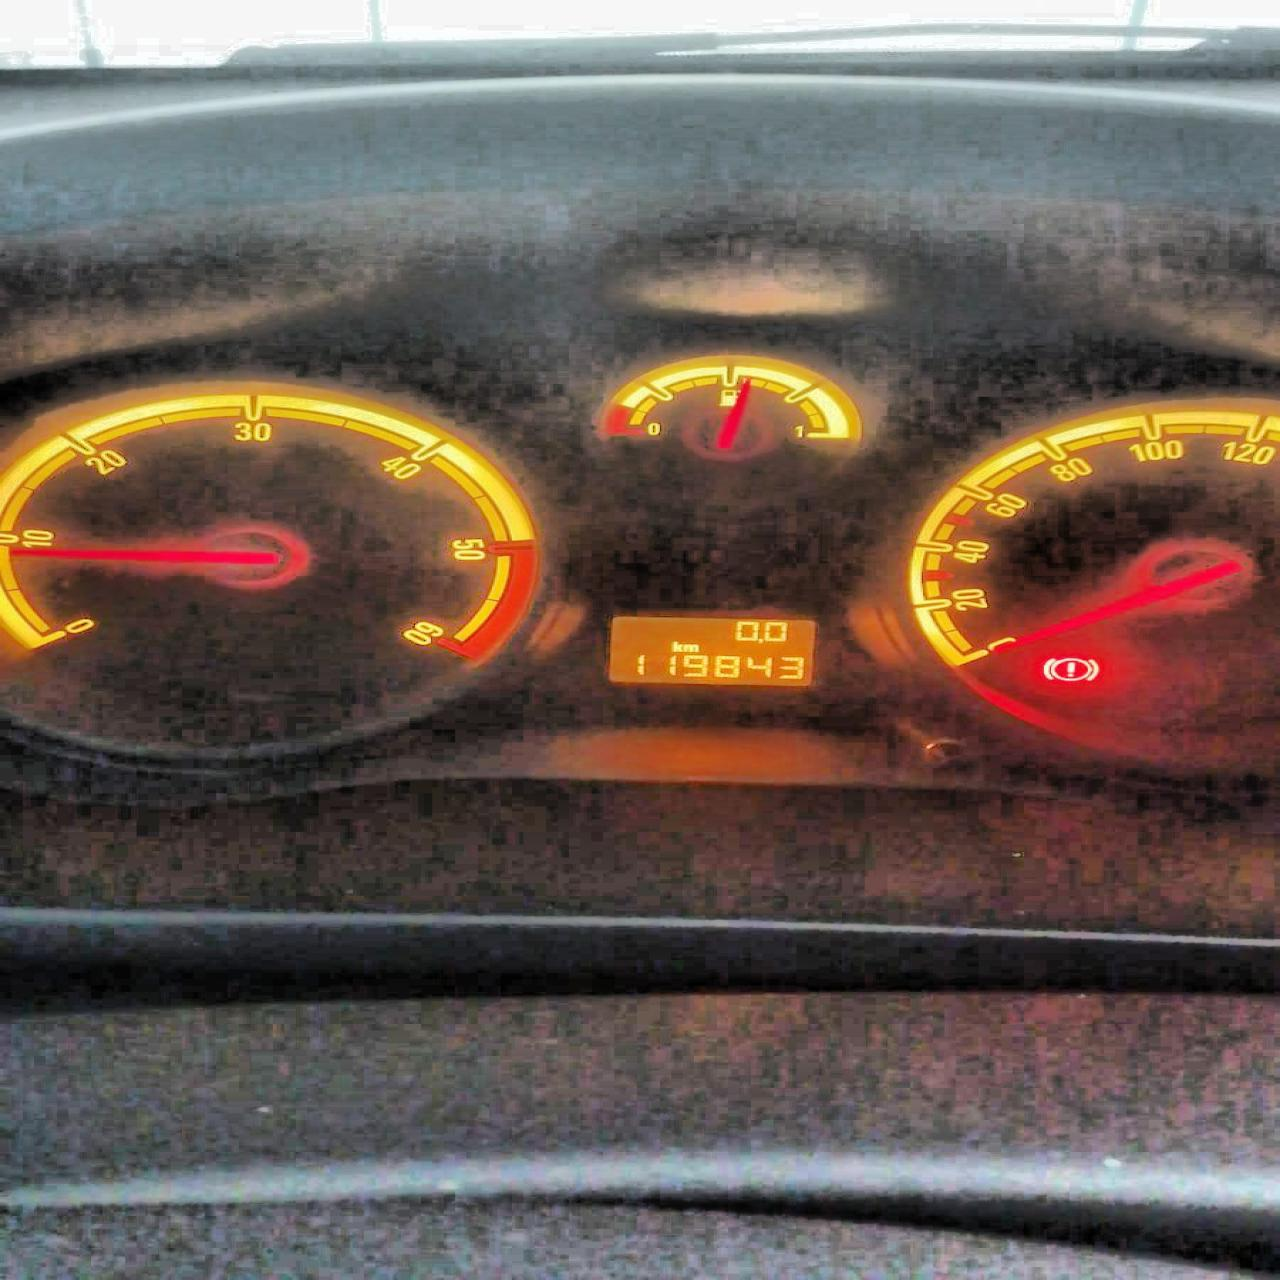-: (757, 636, 762, 644)
0: (733, 621, 760, 641), (762, 621, 788, 641)
1: (635, 654, 646, 675), (667, 654, 675, 675)
3: (778, 655, 804, 679)
4: (745, 656, 772, 678)
8: (713, 655, 740, 676)
9: (681, 654, 707, 676)
X: (670, 640, 683, 652), (681, 644, 699, 652)
odometer: (605, 614, 818, 688)
